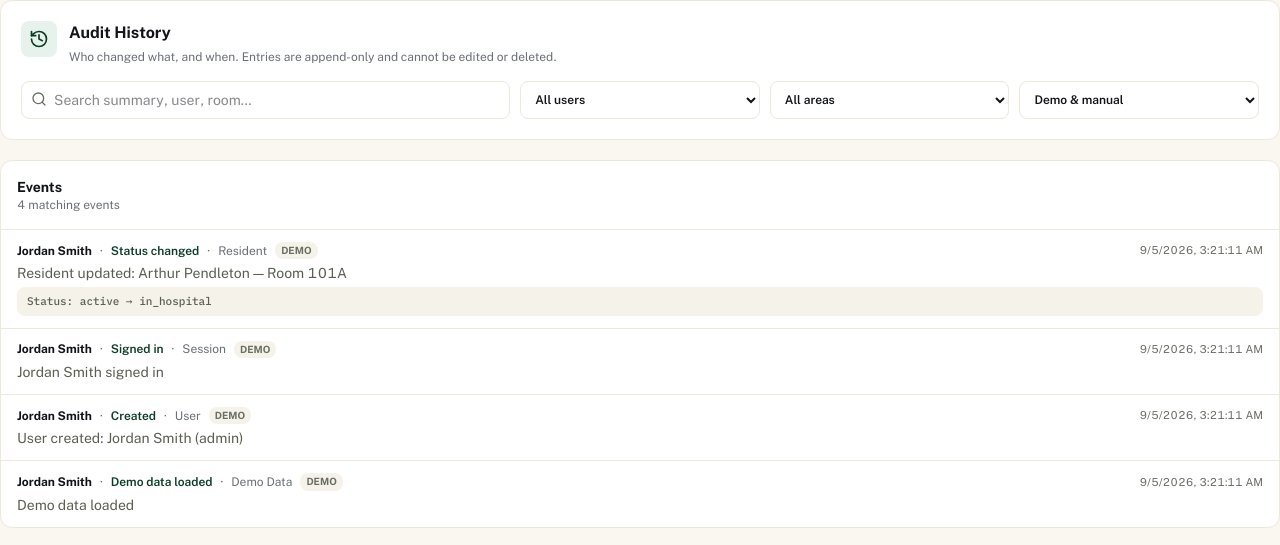
Test case: AuditHistoryTab › filters by source mode (demo vs manual)
Select "Manual only" in the 3rd dropdown showing "Demo & manual" at (1139, 100), box [1019,81,1259,119]
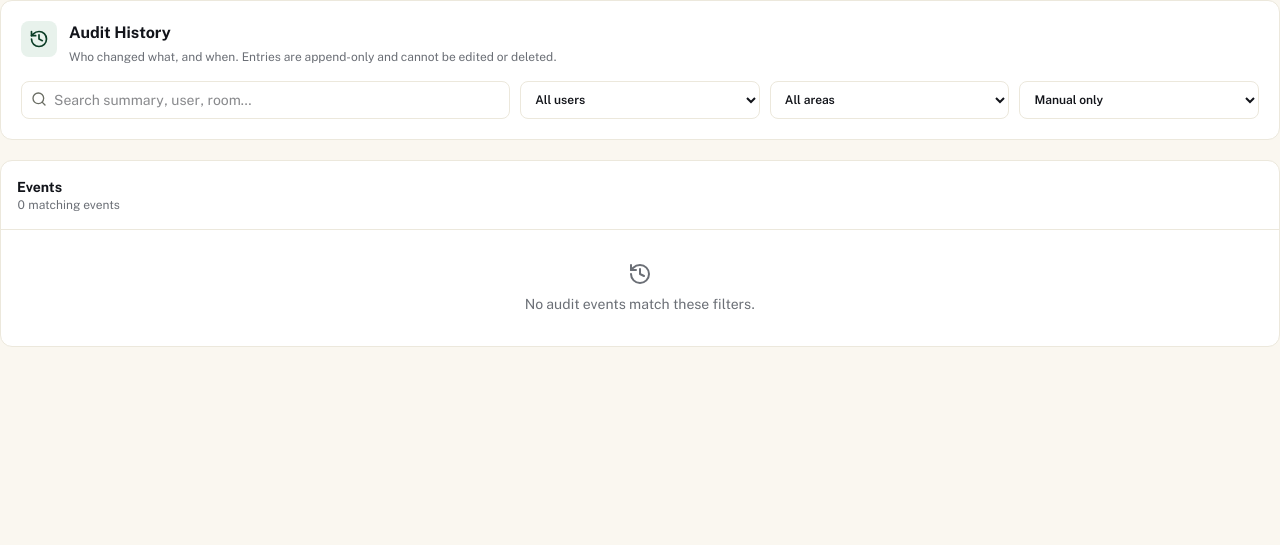
Check: the text "Resident updated" is gone
